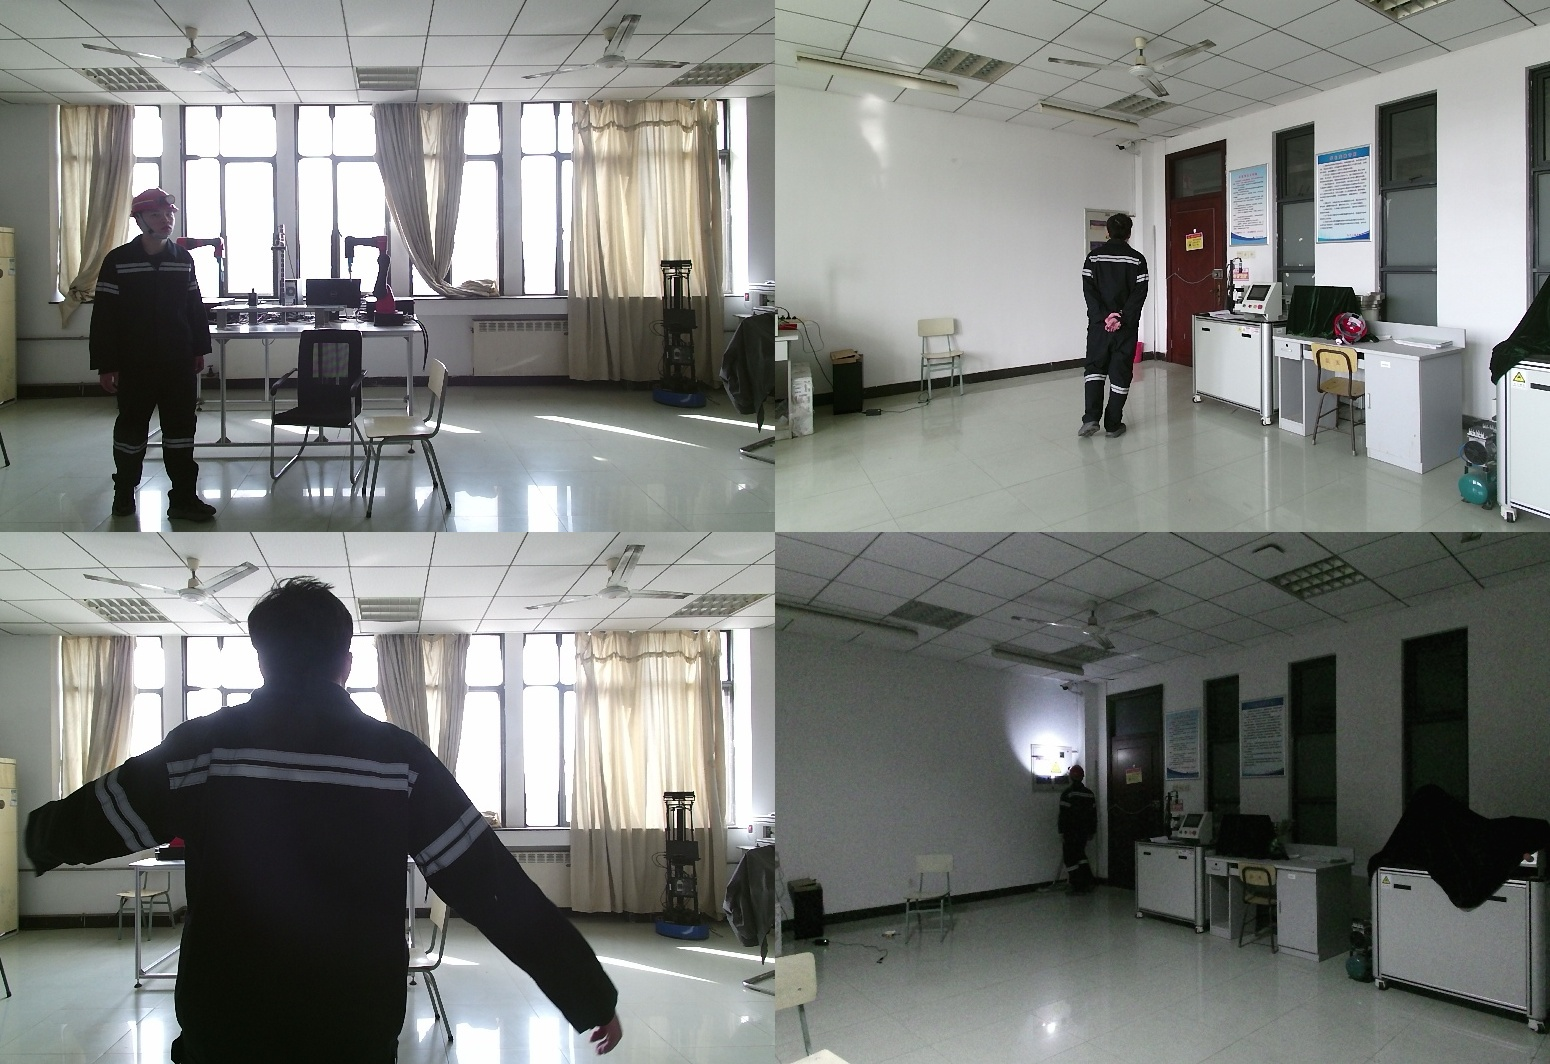person: (28, 583, 618, 1064), (84, 187, 217, 532), (1074, 213, 1157, 440), (1051, 765, 1099, 899)
